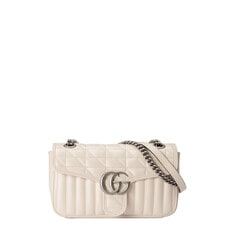Gucci: (46, 132, 195, 222), (89, 170, 135, 198)
